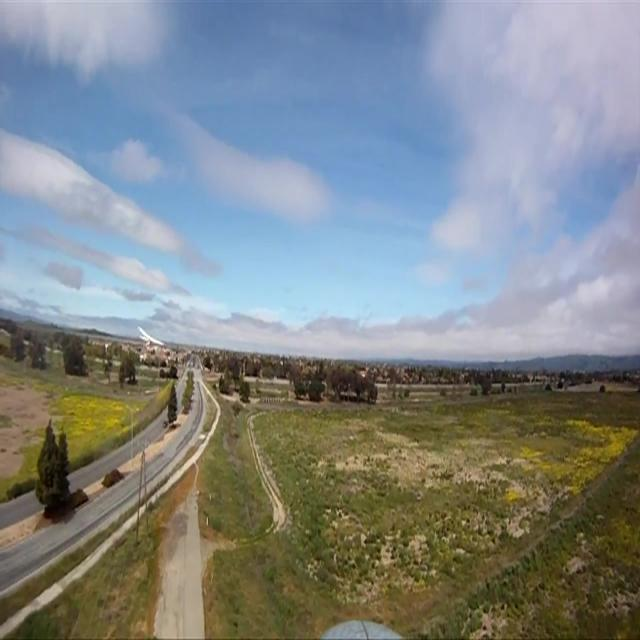iha: (137, 323, 167, 347)
